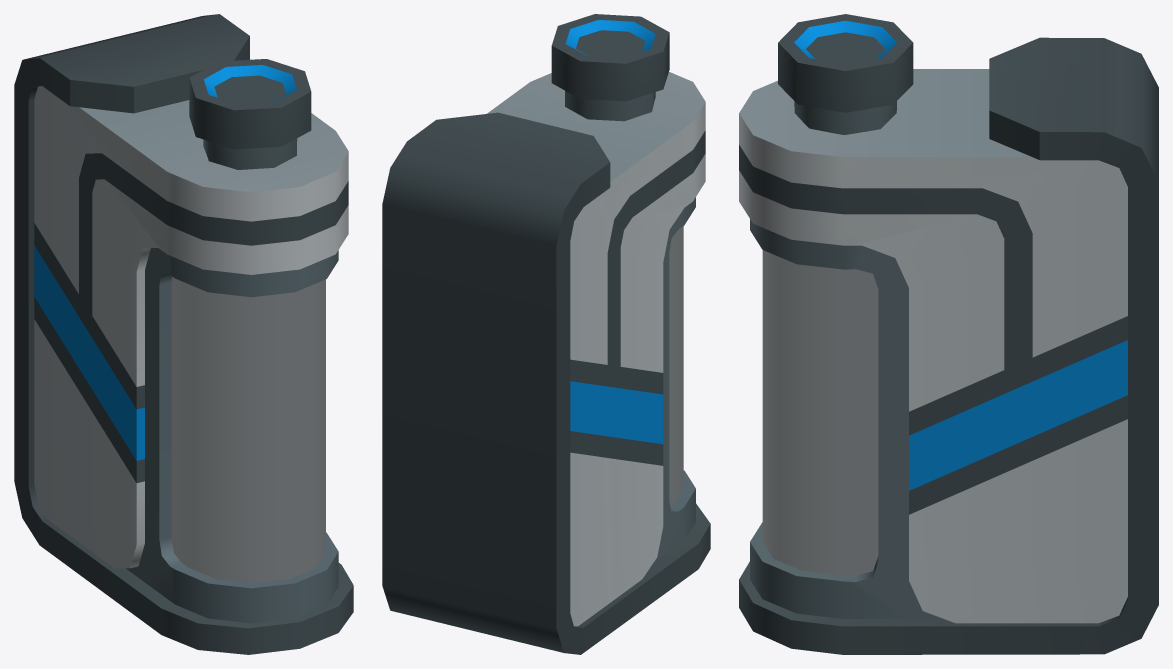
File: Gas_can_010.glb
The picture shows the model from 3 angles, left to right: view 1: azimuth 30°, elevation 25°; view 2: azimuth 150°, elevation 25°; view 3: azimuth 270°, elevation 25°; orthographic projection. The views are drawn at different scales.
Visible parts, largest first — view 1: Gas_can_010; view 2: Gas_can_010; view 3: Gas_can_010.
Boxes of the visible parts, <box> form: Gas_can_010: <box>14,14,353,654</box>; Gas_can_010: <box>382,14,710,654</box>; Gas_can_010: <box>739,14,1158,654</box>.
Bounding box in the file's own units: 0.1963 × 0.5497 × 0.3699.
2 materials, 2 textured.
